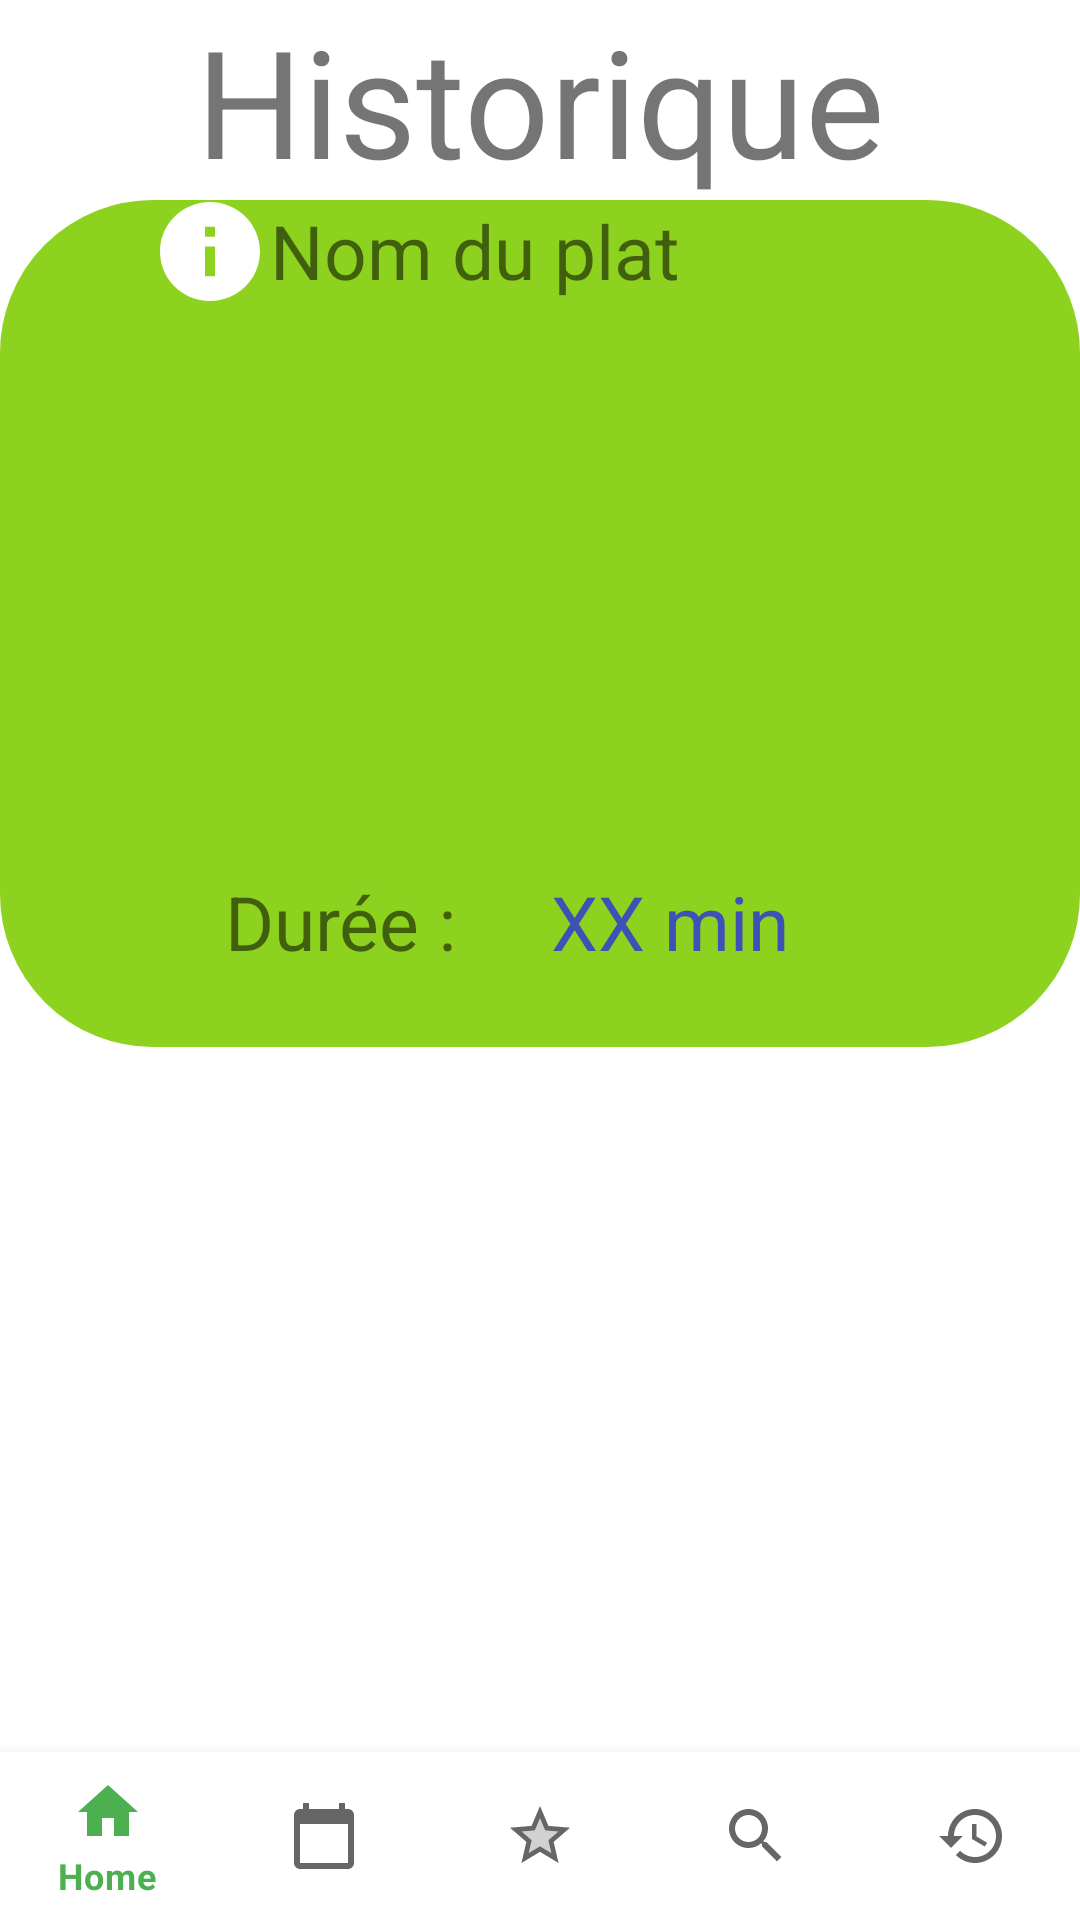

Where to tap for icons on this 1080 x 1920 app screen, as [x,y]:
info: [210,251]
